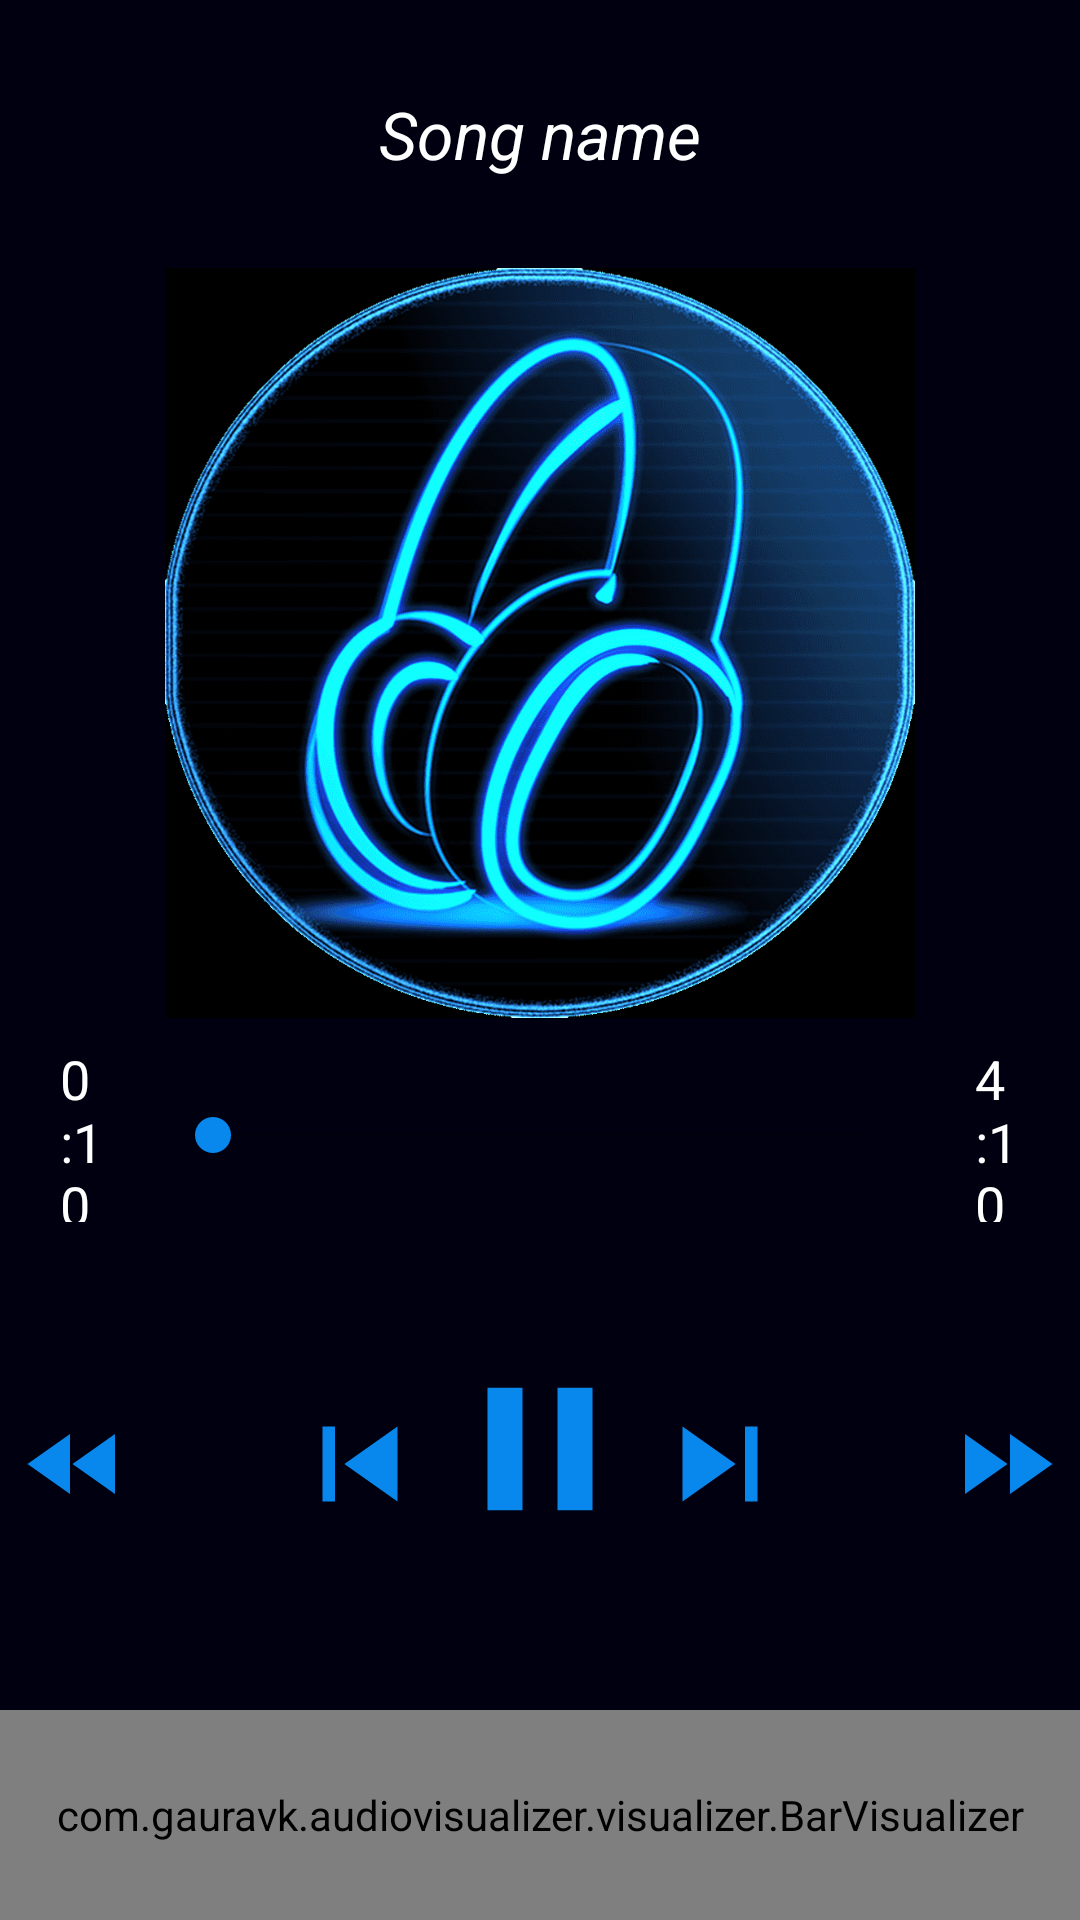

Icons on this 1080*1920 Android screen, each with the point to tap as (x,y):
pause: (540,1449)
